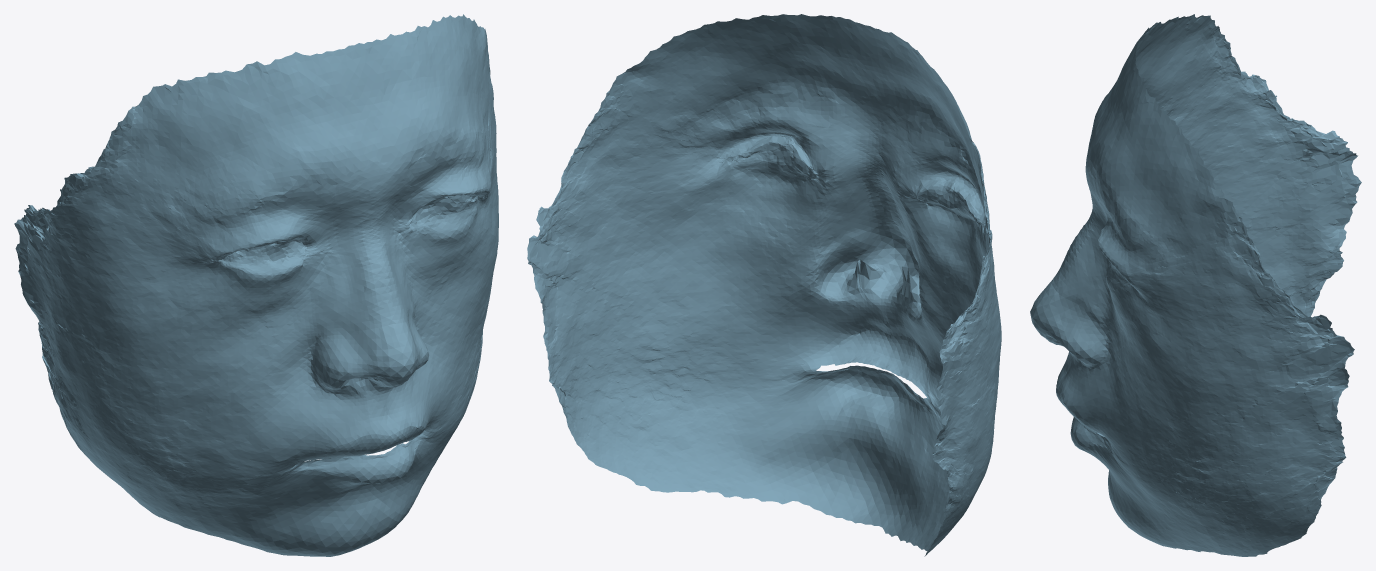
The picture shows the model from 3 angles, left to right: view 1: azimuth 30°, elevation 25°; view 2: azimuth 150°, elevation 25°; view 3: azimuth 270°, elevation 25°; orthographic projection. The views are drawn at different scales.
Bounding box in the file's own units: 1.52 × 1.72 × 1.09.
